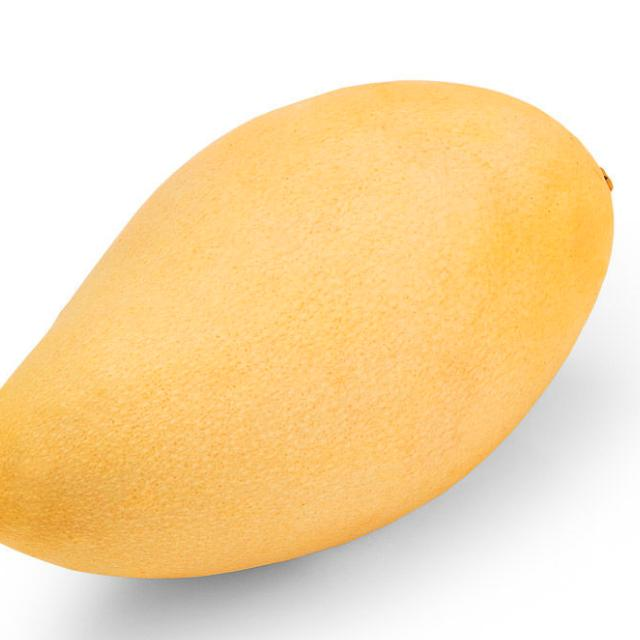mango: (0, 78, 620, 585)
